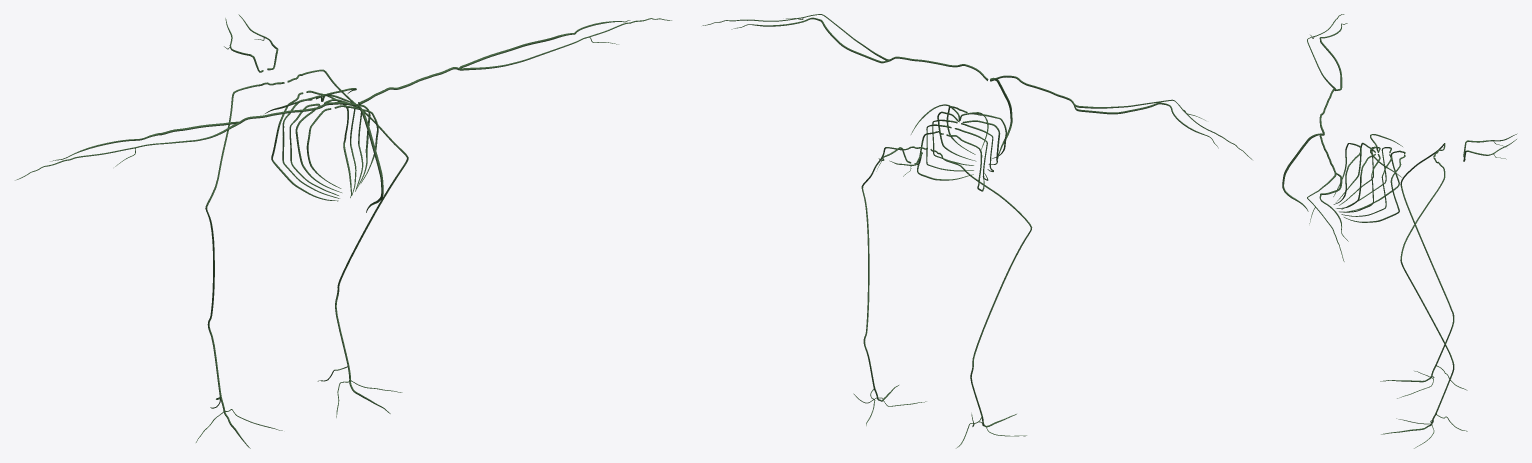
File: Periphericum_nervosum.fbx
The picture shows the model from 3 angles, left to right: view 1: azimuth 30°, elevation 25°; view 2: azimuth 150°, elevation 25°; view 3: azimuth 270°, elevation 25°; orthographic projection. The views are drawn at different scales.
Visible parts, largest first — view 1: Periphericum_nervosum_LOD0; view 2: Periphericum_nervosum_LOD0; view 3: Periphericum_nervosum_LOD0.
Part boxes in pixels (x1=…): Periphericum_nervosum_LOD0: x1=15, y1=14, x2=671, y2=448; Periphericum_nervosum_LOD0: x1=702, y1=14, x2=1252, y2=448; Periphericum_nervosum_LOD0: x1=1282, y1=14, x2=1517, y2=448.
Size of what is drawn, in the model's own units: 2.95 by 1.62 by 1.18.
